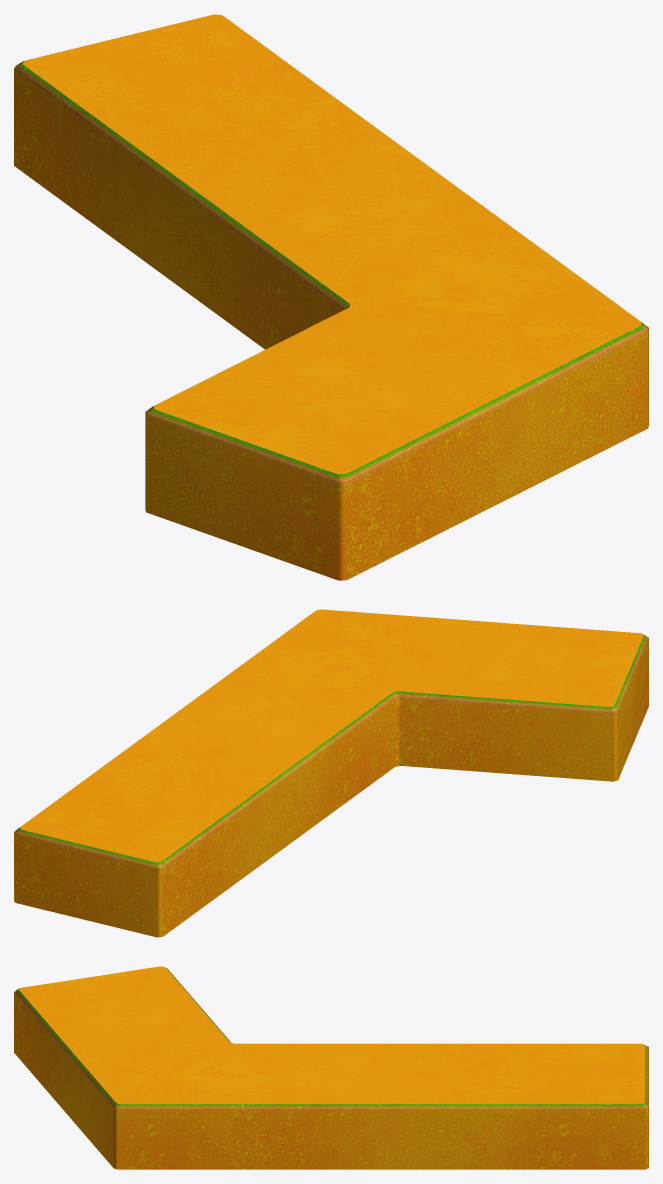
The model's file is ConcreteSlab_02_SM_Low.fbx.
3 views of the same model, one above another, from view 1: azimuth 30°, elevation 25°; view 2: azimuth 150°, elevation 25°; view 3: azimuth 270°, elevation 25° (orthographic). The views are drawn at different scales.
Visible parts, largest first — view 1: ConcreteSlab_02; view 2: ConcreteSlab_02; view 3: ConcreteSlab_02.
Boxes of the visible parts, x1=… form: ConcreteSlab_02: x1=14, y1=14, x2=648, y2=580; ConcreteSlab_02: x1=14, y1=609, x2=648, y2=937; ConcreteSlab_02: x1=14, y1=966, x2=648, y2=1169.
Bounding box in the file's own units: 820 × 172 × 1554.
